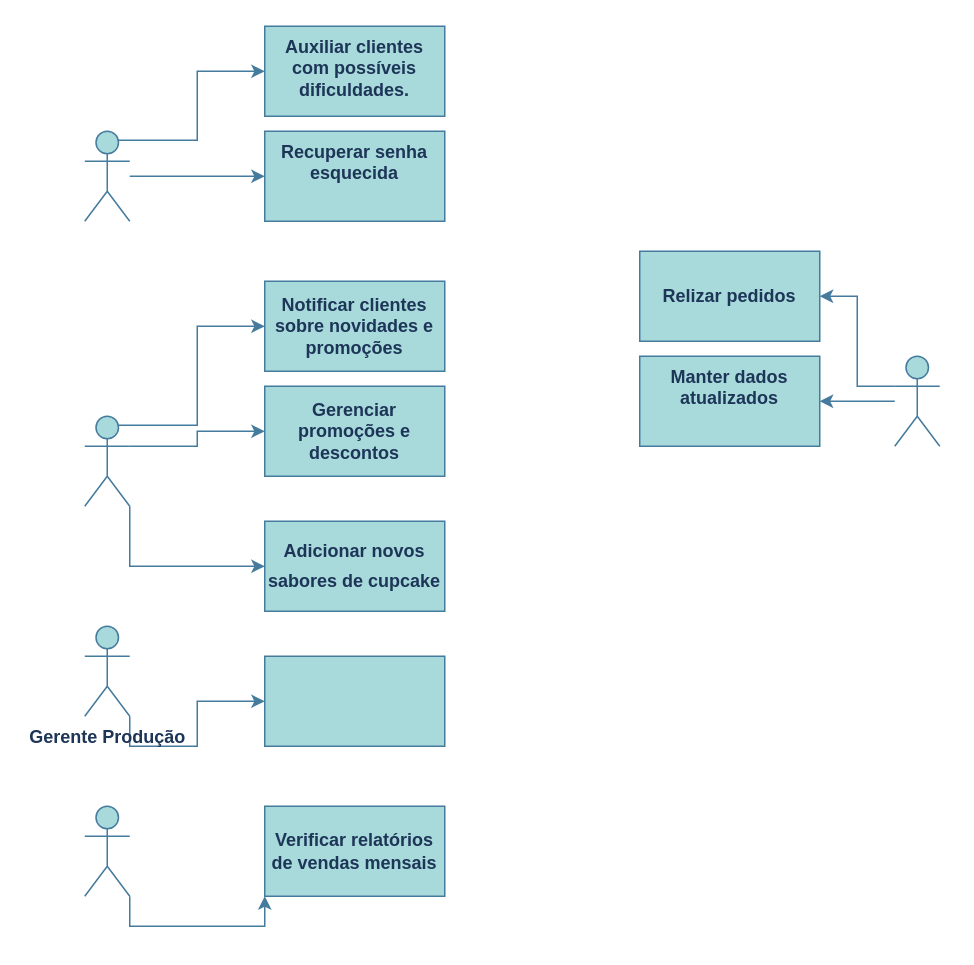
Some shapes in this 974 by 965 pixel diagram are drawn without their labels. The shapes that lost their labels are listed below. From the top down, each one's centre as x and y in pixels, then its label:
At (x=106, y=175): "Funcionário".
At (x=916, y=400): "Cliente".
At (x=106, y=460): "Gerente Marketing".
At (x=354, y=700): "Gerenciar estoque de ingredientes".
At (x=106, y=850): "Gerente Financeiro".
